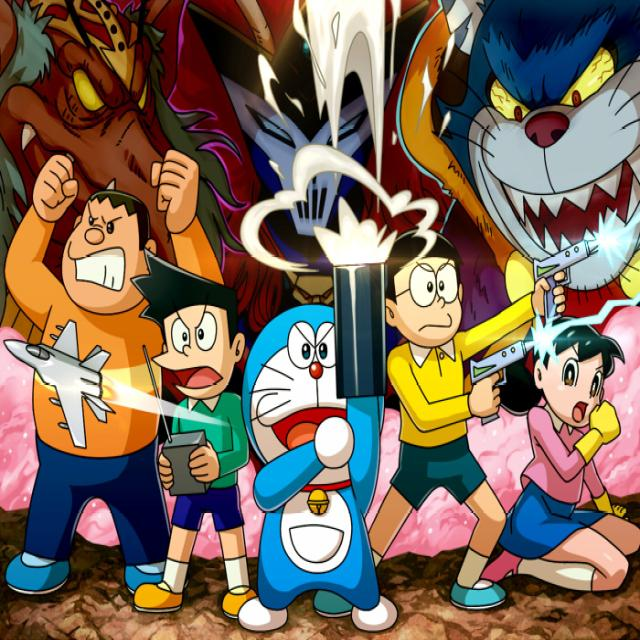doraemon: (240, 301, 383, 484)
jaian: (60, 178, 152, 312)
nobita: (386, 230, 472, 364)
shizuka: (532, 322, 618, 425)
suneo: (134, 251, 248, 409)
